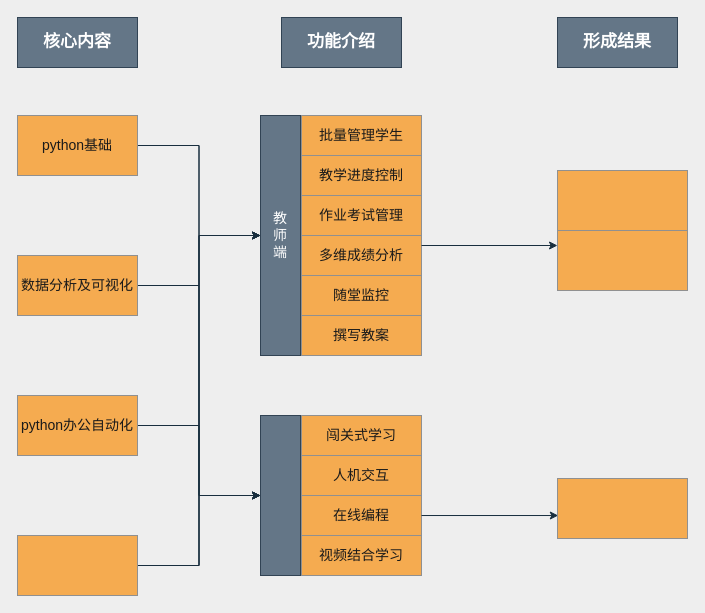
The diagram is 705 pixels wide and 613 high, and some of its shapes have lost their labels. The centre of each missing label's shape, as x and y in pixels:
"作业考试记录" goes at pixel 622 508.
"学 生 端" goes at pixel 280 495.
"实时运行结果查看" goes at pixel 622 260.
"成绩档案存储与管理" goes at pixel 622 200.
"财务数据案例实训" goes at pixel 77 565.
